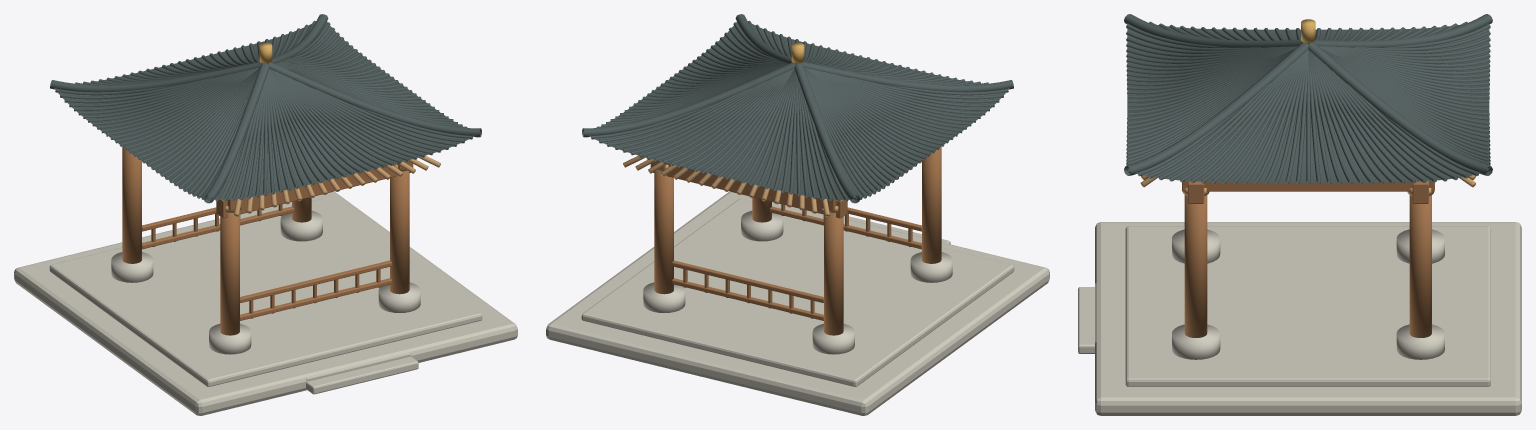
Rendered from crafted-pavilion.glb.
The picture shows the model from 3 angles, left to right: view 1: azimuth 30°, elevation 25°; view 2: azimuth 150°, elevation 25°; view 3: azimuth 270°, elevation 25°; orthographic projection. The views are drawn at different scales.
Visible parts, largest first — view 1: foundation, roof surface, side rail, wood column, wood column.001, wood column.002, rafter north, bearing beam, stone plinth, stone plinth.002, stone plinth.003, stone plinth.001; view 2: foundation, roof surface, side rail, wood column.002, wood column.003, wood column, rafter north, bearing beam.001, stone plinth.002, stone plinth, stone plinth.001, stone plinth.003; view 3: foundation, roof surface, wood column.001, wood column.003, bearing beam.003, stone plinth.003, stone plinth.001, stone plinth.002, stone plinth.
Part boxes in pixels (left/top/right/bottom): foundation: left=14, top=191, right=517, bottom=415; roof surface: left=50, top=14, right=481, bottom=203; side rail: left=142, top=204, right=392, bottom=320; wood column: left=220, top=213, right=239, bottom=335; wood column.001: left=390, top=170, right=409, bottom=294; wood column.002: left=122, top=146, right=141, bottom=263; rafter north: left=234, top=155, right=440, bottom=216; bearing beam: left=216, top=163, right=413, bottom=218; stone plinth: left=209, top=323, right=251, bottom=354; stone plinth.002: left=111, top=252, right=153, bottom=282; stone plinth.003: left=280, top=210, right=322, bottom=241; stone plinth.001: left=378, top=282, right=420, bottom=312; foundation: left=546, top=191, right=1049, bottom=415; roof surface: left=582, top=14, right=1013, bottom=203; side rail: left=671, top=204, right=921, bottom=320; wood column.002: left=824, top=213, right=843, bottom=335; wood column.003: left=654, top=170, right=673, bottom=294; wood column: left=922, top=146, right=941, bottom=263; rafter north: left=623, top=155, right=829, bottom=216; bearing beam.001: left=650, top=163, right=847, bottom=218; stone plinth.002: left=812, top=323, right=854, bottom=354; stone plinth: left=910, top=252, right=952, bottom=282; stone plinth.001: left=741, top=210, right=783, bottom=241; stone plinth.003: left=643, top=282, right=685, bottom=312; foundation: left=1078, top=222, right=1521, bottom=415; roof surface: left=1124, top=14, right=1492, bottom=184; wood column.001: left=1184, top=181, right=1207, bottom=337; wood column.003: left=1409, top=181, right=1431, bottom=337; bearing beam.003: left=1182, top=181, right=1434, bottom=191; stone plinth.003: left=1396, top=324, right=1444, bottom=359; stone plinth.001: left=1172, top=324, right=1220, bottom=359; stone plinth.002: left=1396, top=229, right=1444, bottom=263; stone plinth: left=1172, top=229, right=1220, bottom=263.
Bounding box in the file's own units: 7.6 × 6.01 × 7.9.
